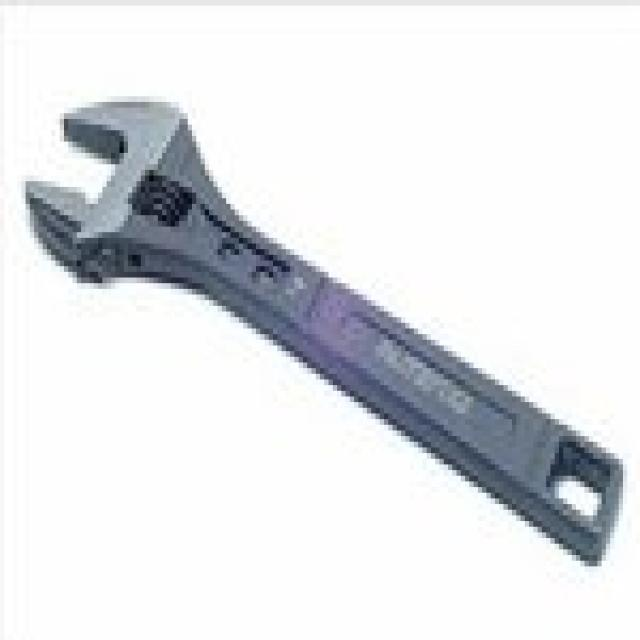wrench: (16, 81, 626, 564)
